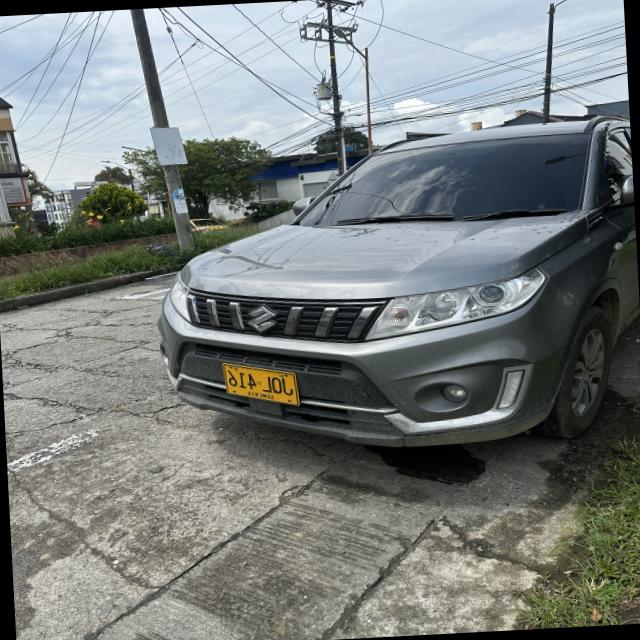number plate: (223, 363, 300, 406)
